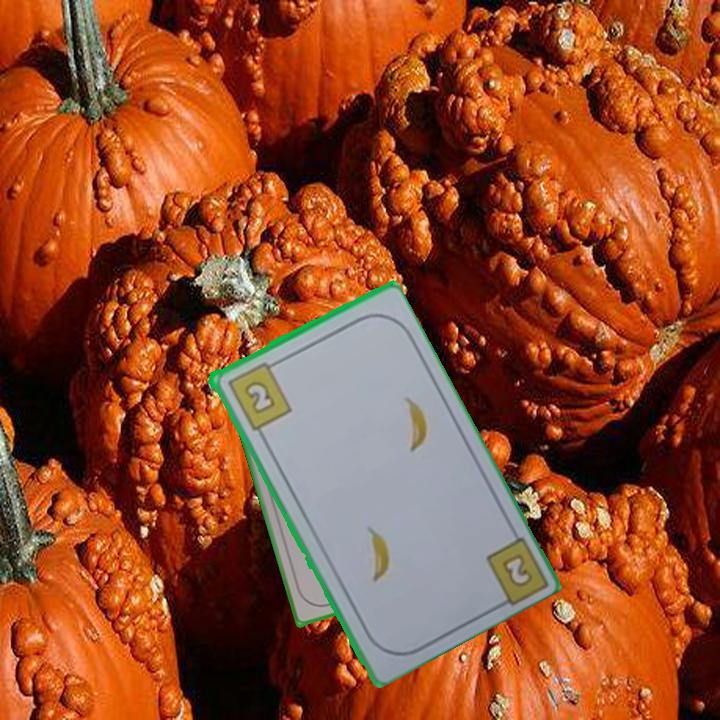2b: (223, 357, 294, 433), (498, 549, 535, 591)
